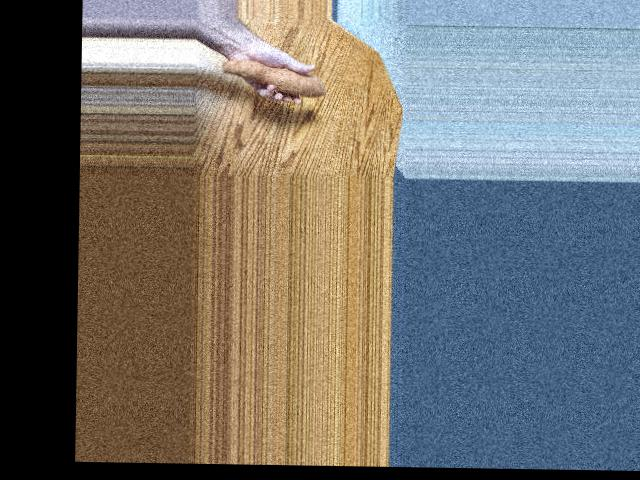sweet_potato: (224, 58, 328, 98)
